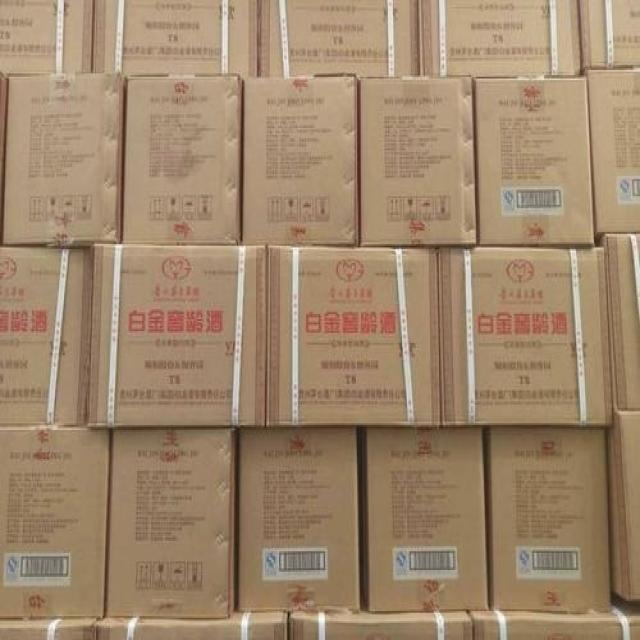box: (87, 246, 266, 428), (266, 246, 440, 428), (439, 247, 611, 427), (105, 428, 236, 618), (358, 427, 489, 611), (484, 428, 612, 613), (238, 427, 361, 613), (1, 72, 123, 247), (0, 428, 109, 620), (122, 77, 242, 244), (474, 77, 594, 244), (360, 77, 477, 246), (242, 77, 358, 246), (1, 247, 92, 427), (93, 0, 259, 77), (257, 0, 419, 77), (419, 0, 581, 77), (586, 67, 640, 242), (466, 592, 640, 638), (603, 234, 640, 410), (607, 410, 640, 601), (96, 611, 288, 640), (288, 611, 474, 640), (579, 0, 640, 68), (0, 618, 99, 640)
